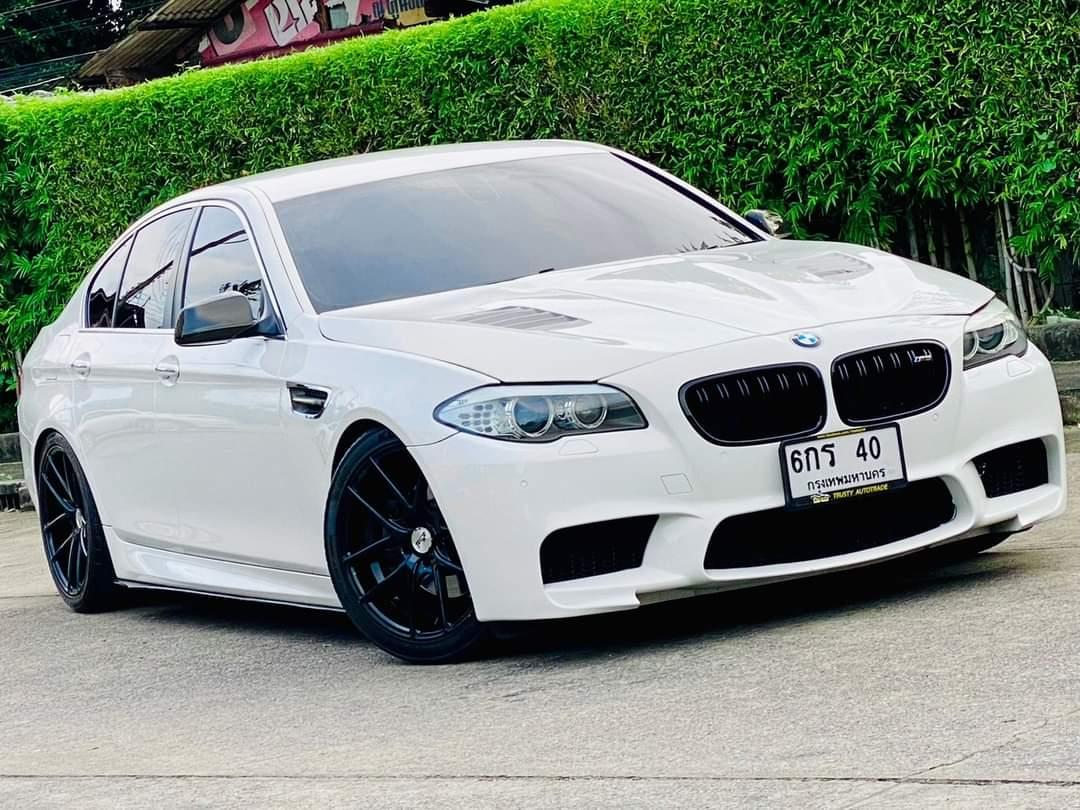license-plate: (769, 417, 911, 516)
